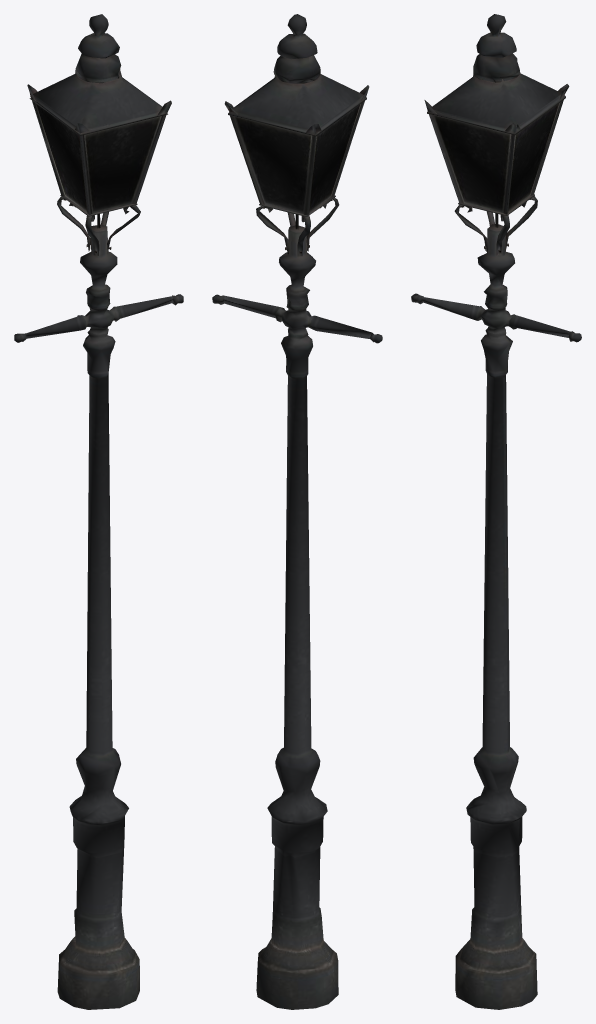
Rendered from street_lamp_01.glb.
The picture shows the model from 3 angles, left to right: view 1: azimuth 30°, elevation 25°; view 2: azimuth 150°, elevation 25°; view 3: azimuth 330°, elevation 25°; orthographic projection.
Parts seen in each view (by area): view 1: street_lamp_01; view 2: street_lamp_01; view 3: street_lamp_01.
Part boxes in pixels (left/top/right/bottom): street_lamp_01: left=14, top=14, right=183, bottom=1009; street_lamp_01: left=212, top=14, right=382, bottom=1009; street_lamp_01: left=411, top=14, right=581, bottom=1009.
Size of the model in its own units: 0.7031 by 3.87 by 0.3862.
Materials: 3 (3 with a texture image).
